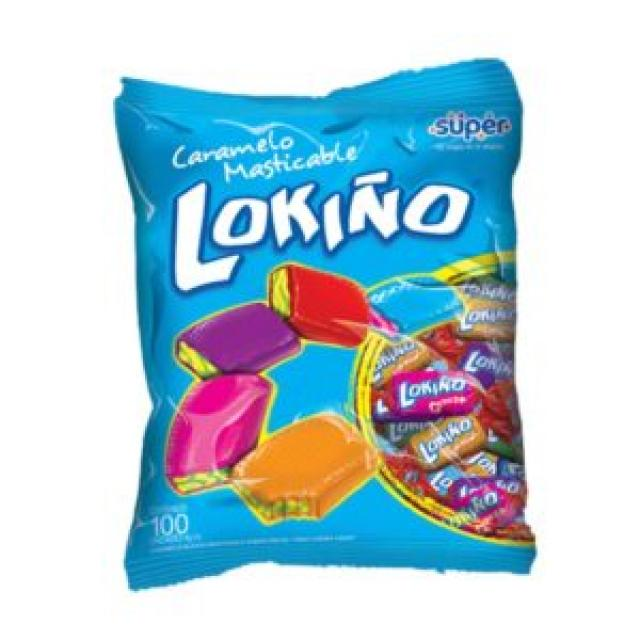Paquete: (113, 62, 535, 592)
